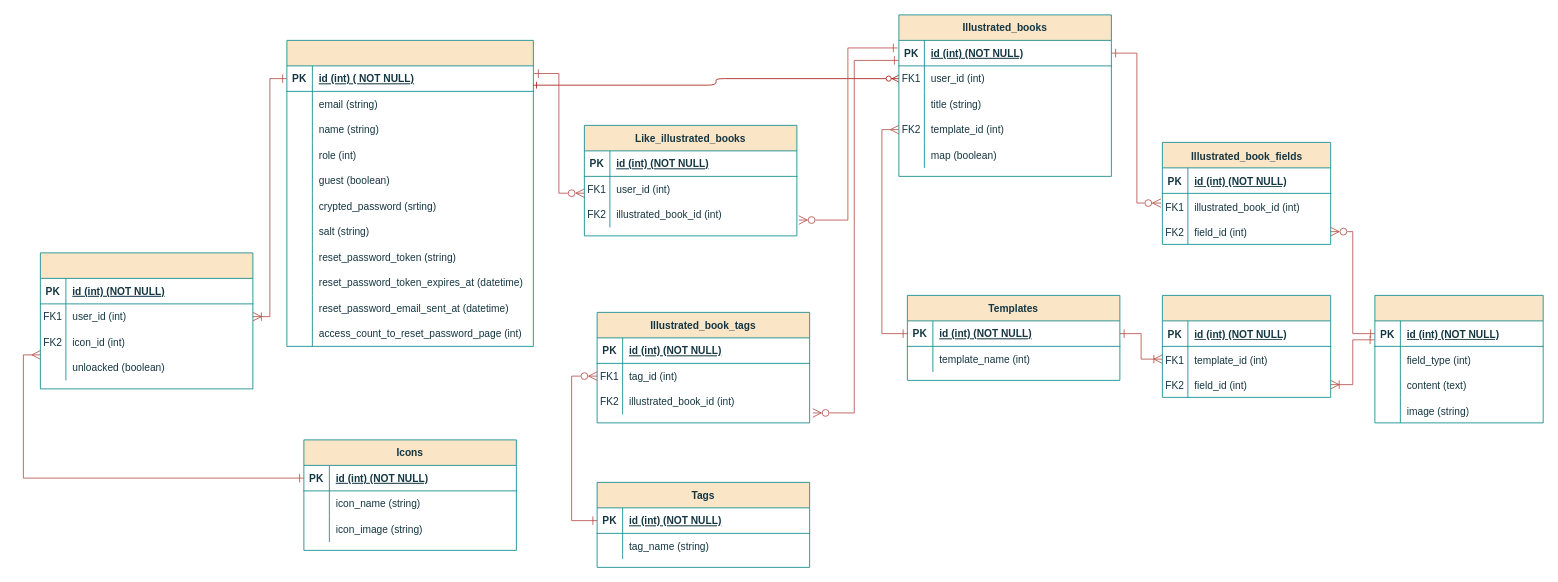
Some shapes in this 1558 by 582 pixel diagram are drawn without their labels. The shapes that lost their labels are listed below. From the top down, each one's box as (x1, y1, x2, y2) in pixels, then its label:
(286, 40, 533, 346): Users
(40, 252, 253, 389): User_icons
(1162, 295, 1331, 397): Template_fields
(1374, 295, 1543, 423): Fields
